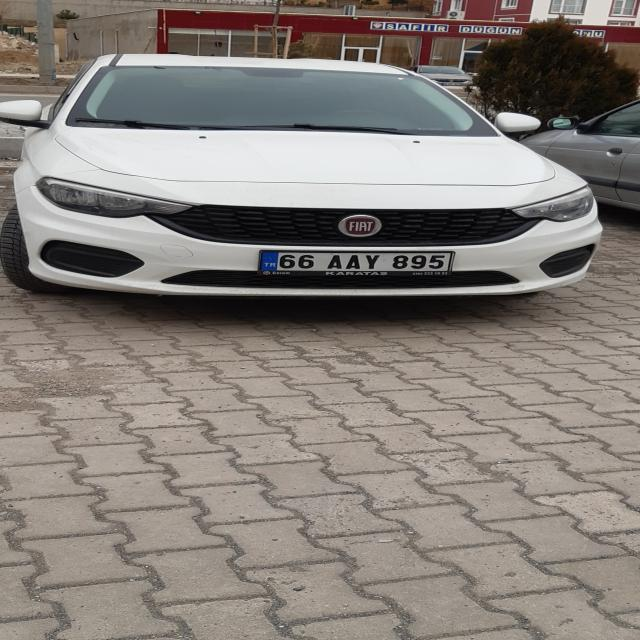plate: (259, 251, 453, 271)
